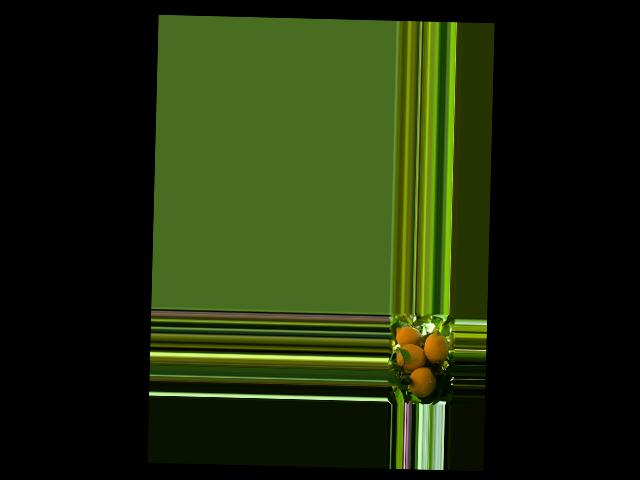lemon: (404, 366, 437, 399)
